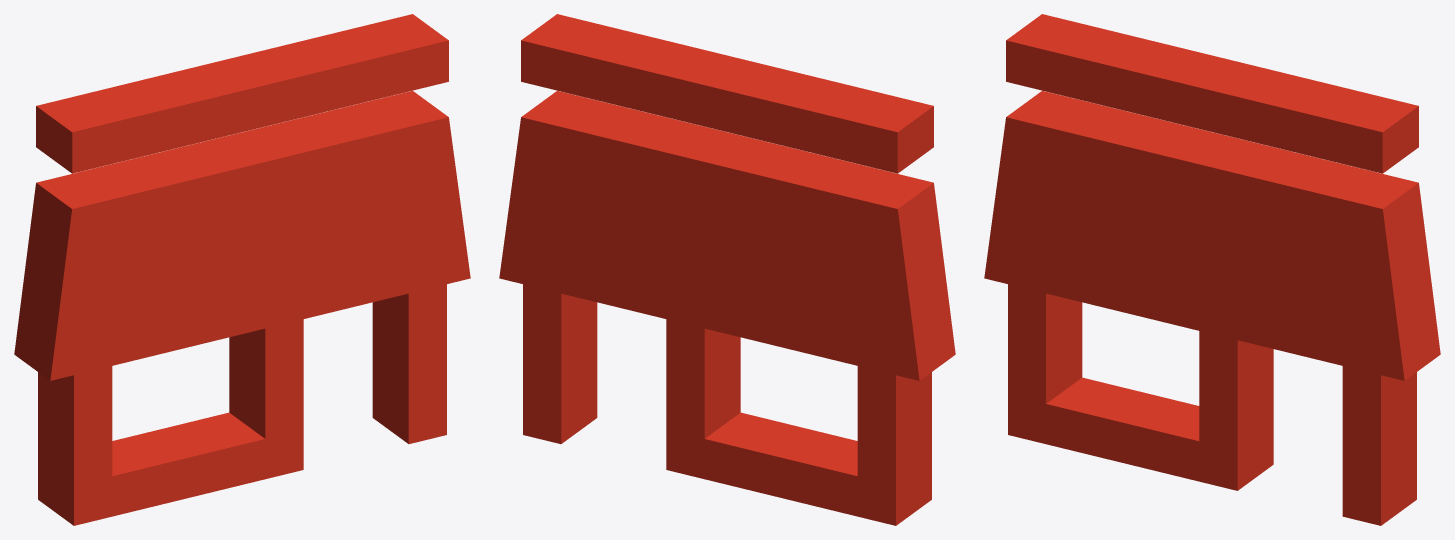
File: Icon_Shop_02.fbx
The picture shows the model from 3 angles, left to right: view 1: azimuth 30°, elevation 25°; view 2: azimuth 150°, elevation 25°; view 3: azimuth 330°, elevation 25°; orthographic projection.
Visible parts, largest first — view 1: Icon_Shop_02; view 2: Icon_Shop_02; view 3: Icon_Shop_02.
Part boxes in pixels (x1,y1,x2,y2): Icon_Shop_02: (14, 14, 470, 525); Icon_Shop_02: (499, 14, 955, 525); Icon_Shop_02: (984, 14, 1440, 525).
Size of the model in its own units: 81.11 by 72.66 by 12.06.
